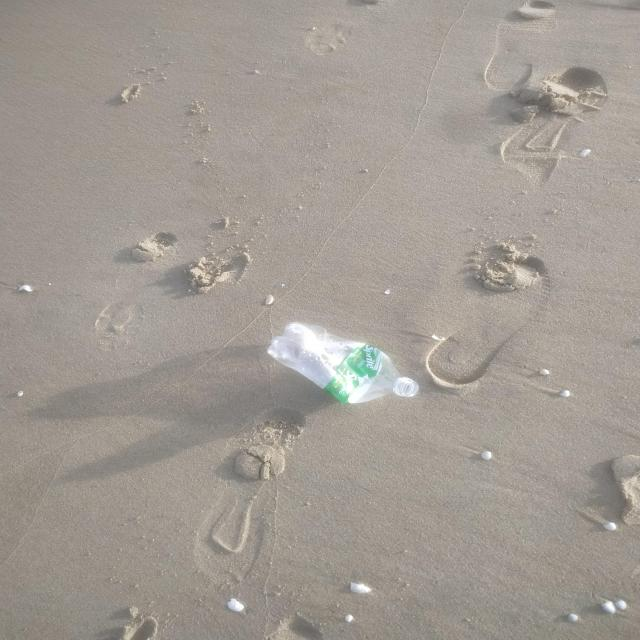litter: (266, 321, 419, 404)
